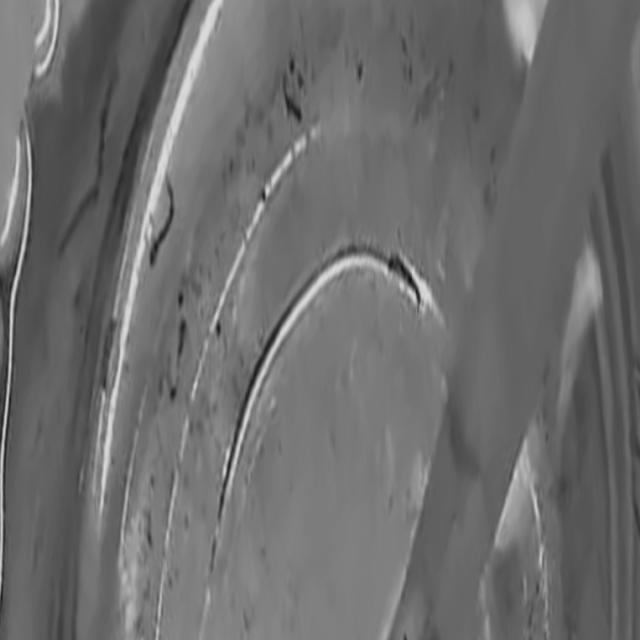larvas: (148, 180, 176, 267), (388, 256, 420, 304), (172, 296, 188, 384), (284, 76, 302, 120)
